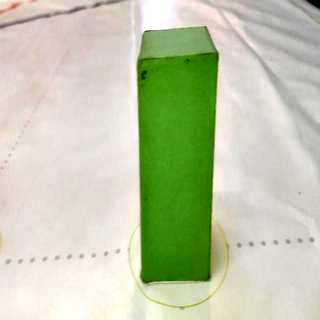greenbox: (137, 24, 220, 283)
